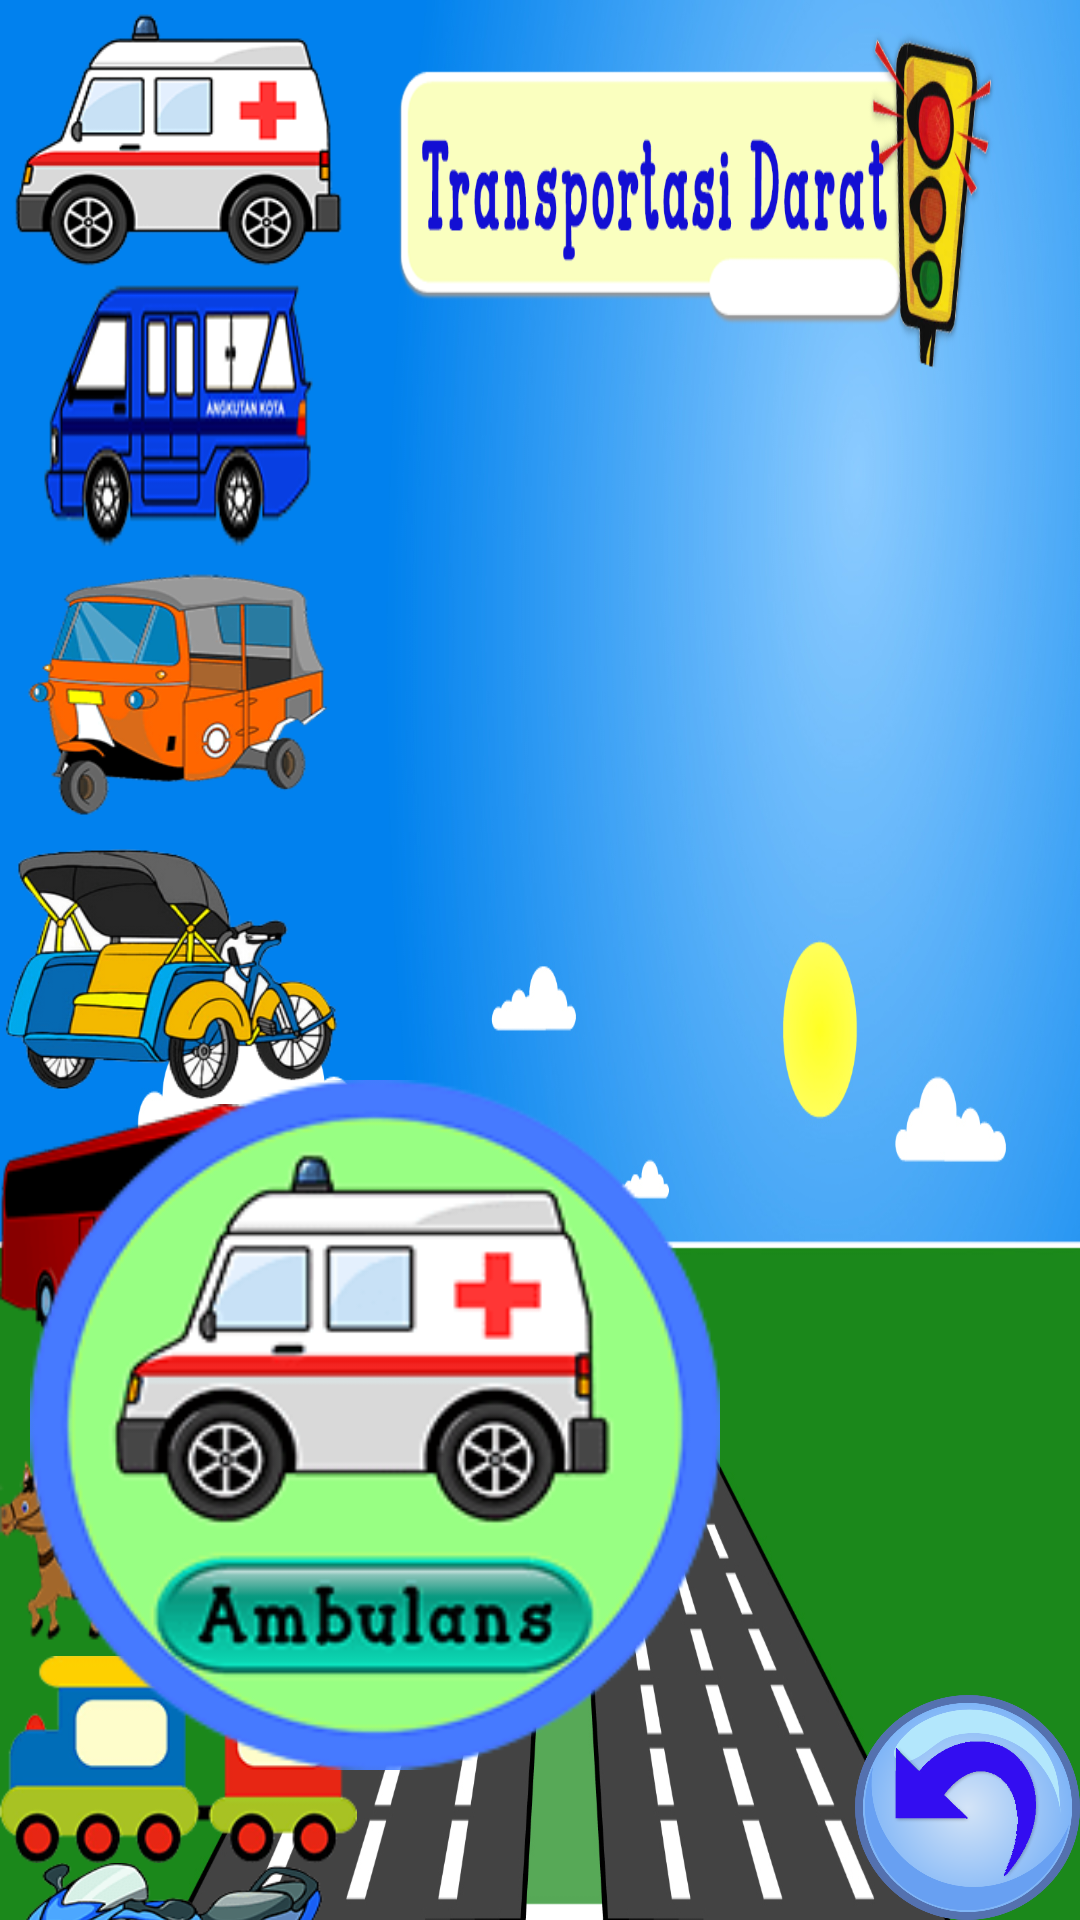

Screen size 1080x1920. Icon name, then its center in pixels as (x=x, y=y):
ambulance: (x=178, y=139)
back: (x=967, y=1807)
bajaj: (x=177, y=694)
becak: (x=181, y=976)
